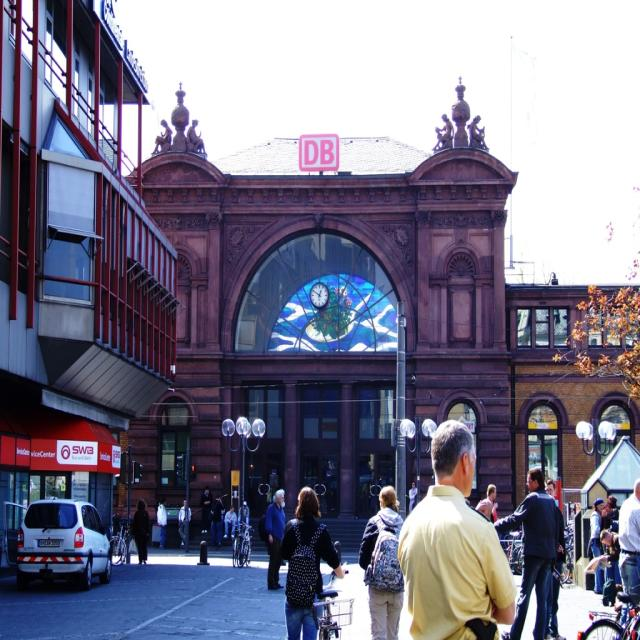car: (8, 499, 106, 593)
